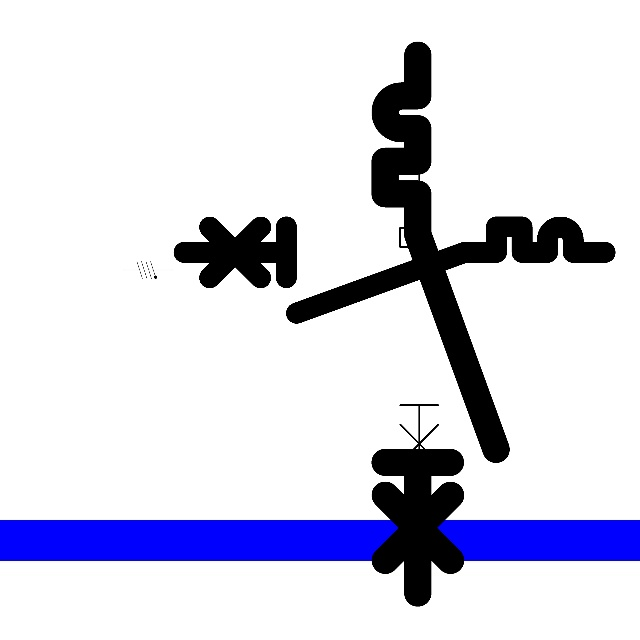interruptor_termomagnetico: (371, 41, 509, 607), (173, 216, 616, 324), (392, 157, 473, 491)
